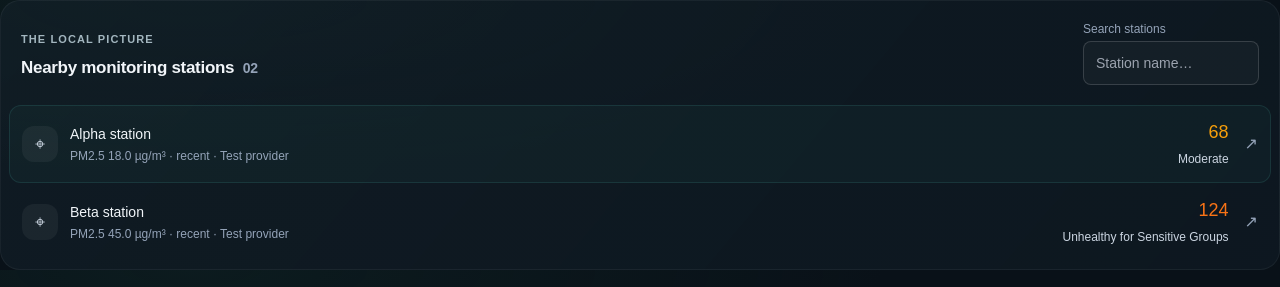
Test: explains an empty search and loading state
Later steps or results of the test are not shown.
Type "missing" into the search field.
click(1171, 63); type("missing")  # box top-left (1083, 41), bottom-right (1259, 85)
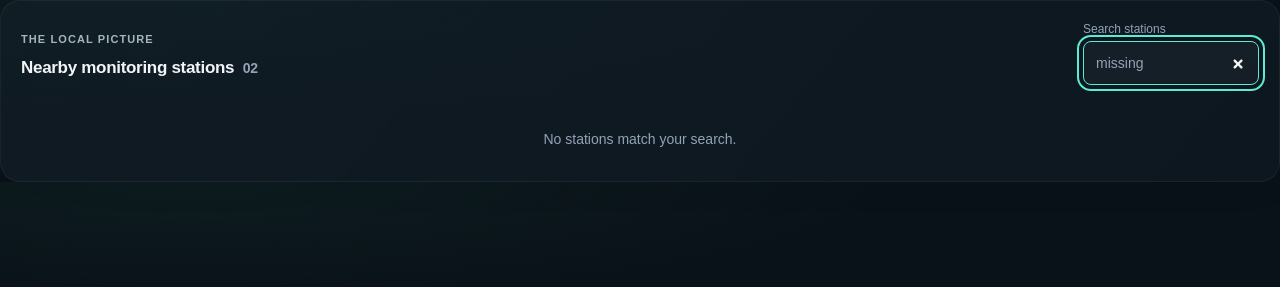
Expected: the message shows "No stations match", top-left (544, 131), bottom-right (736, 147)
